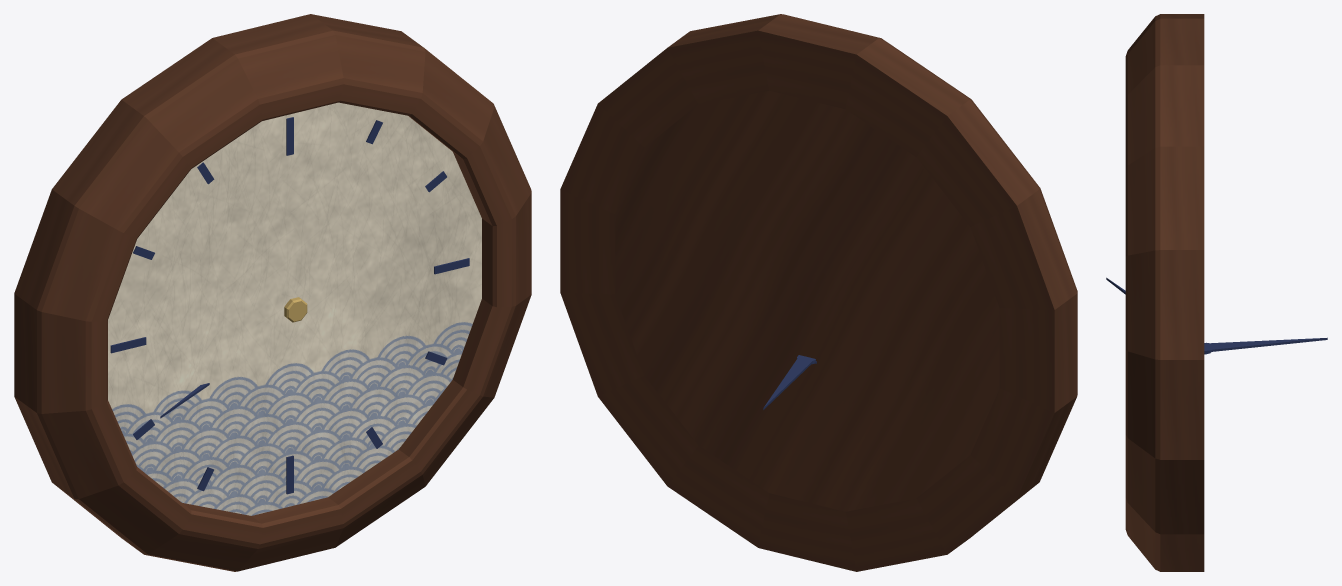
The model's file is 08_Reloj.fbx.
3 views of the same model, side by side, from view 1: azimuth 30°, elevation 25°; view 2: azimuth 150°, elevation 25°; view 3: azimuth 270°, elevation 25° (orthographic). The views are drawn at different scales.
Visible parts, largest first — view 1: SM_08_Reloj; view 2: SM_08_Reloj; view 3: SM_08_Reloj, SM_08_Manecilla_Hora.
Boxes of the visible parts, bbox=[...] form: SM_08_Reloj: bbox=[14, 14, 531, 571]; SM_08_Reloj: bbox=[560, 14, 1077, 571]; SM_08_Reloj: bbox=[1125, 14, 1204, 571]; SM_08_Manecilla_Hora: bbox=[1204, 337, 1327, 352].
Size of the model in its own units: 0.3531 by 0.3531 by 0.1413.
